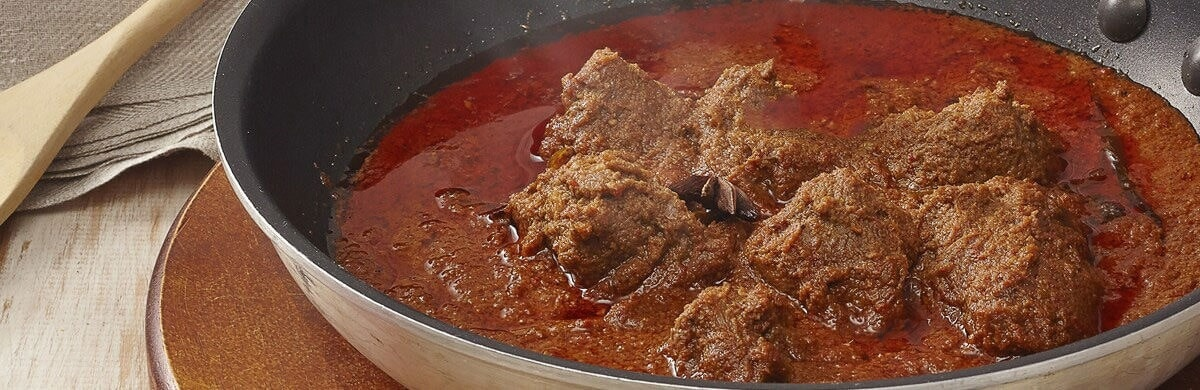rendang: (422, 24, 1101, 374)
